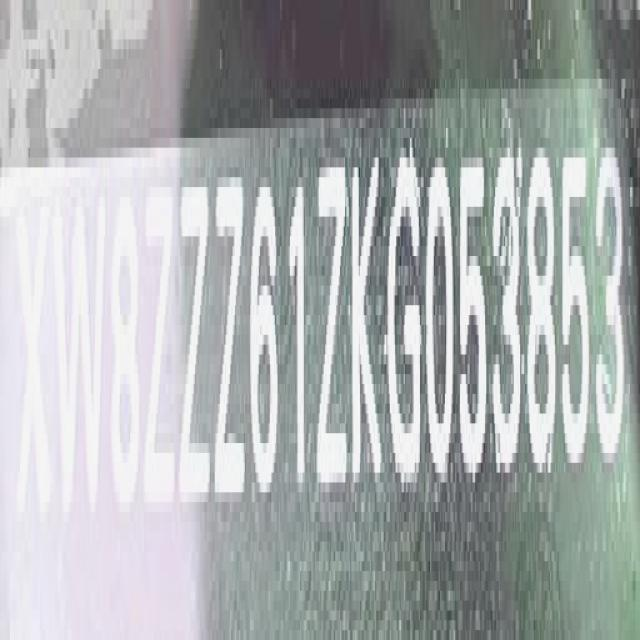0: (426, 154, 455, 494)
1: (289, 161, 309, 500)
3: (493, 152, 524, 486), (598, 145, 628, 471)
5: (561, 144, 592, 473), (458, 149, 486, 490)
6: (251, 169, 279, 507)
8: (112, 190, 144, 530), (526, 146, 558, 473)
G: (384, 135, 422, 514)
K: (350, 146, 383, 496)
W: (58, 196, 105, 538)
X: (15, 204, 52, 544)
Z: (144, 179, 176, 527), (314, 151, 345, 498), (182, 172, 212, 523), (216, 173, 246, 514)
